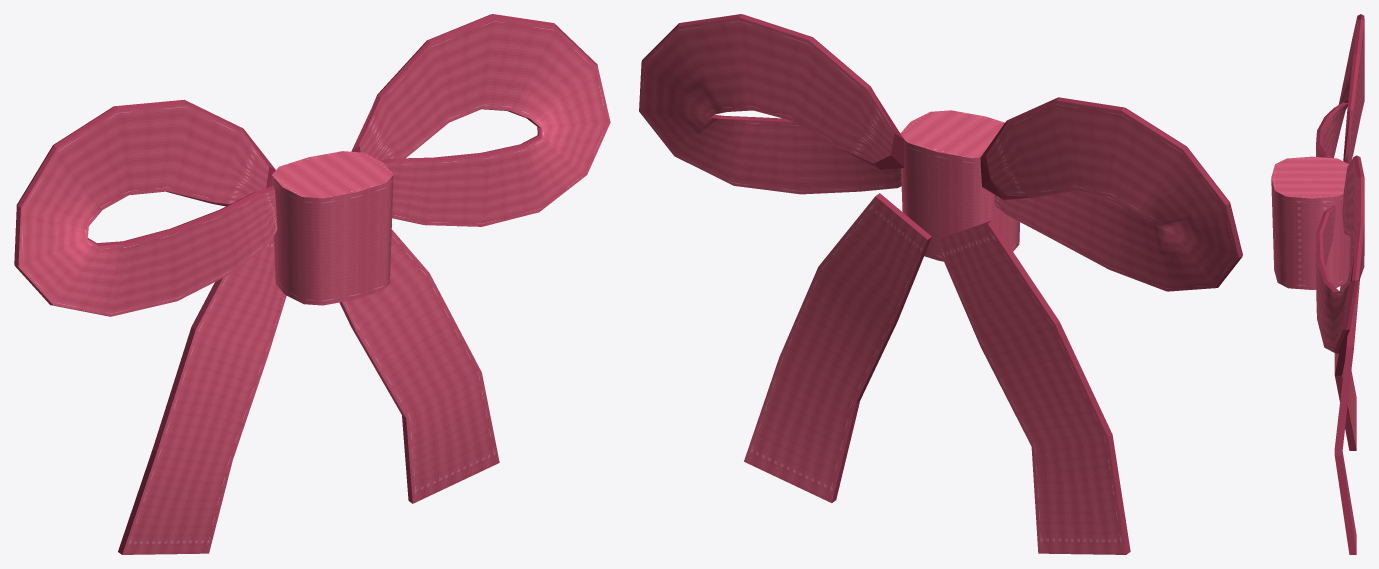
File: ribbon.obj
3 views of the same model, side by side, from view 1: azimuth 30°, elevation 25°; view 2: azimuth 150°, elevation 25°; view 3: azimuth 270°, elevation 25° (orthographic). The views are drawn at different scales.
Parts seen in each view (by area): view 1: A_FoldedBowLoop-1.001_ribbon_ribbon, A_FoldedBowLoop1.001_ribbon_ribbon, B_Tail-1.001_ribbon_ribbon, B_Tail1.001_ribbon_ribbon, C_WrappedKnot.001_ribbon_ribbon, A_FoldedBowLoop-1.001_ribbon_cut_edges, A_FoldedBowLoop1.001_ribbon_cut_edges, B_Tail-1.001_ribbon_cut_edges, B_Tail1.001_ribbon_cut_edges; view 2: A_FoldedBowLoop1.001_ribbon_ribbon, A_FoldedBowLoop-1.001_ribbon_ribbon, B_Tail-1.001_ribbon_ribbon, B_Tail1.001_ribbon_ribbon, C_WrappedKnot.001_ribbon_ribbon, A_FoldedBowLoop1.001_ribbon_cut_edges, A_FoldedBowLoop-1.001_ribbon_cut_edges, B_Tail-1.001_ribbon_cut_edges, B_Tail1.001_ribbon_cut_edges; view 3: C_WrappedKnot.001_ribbon_ribbon, A_FoldedBowLoop1.001_ribbon_ribbon, A_FoldedBowLoop1.001_ribbon_cut_edges, A_FoldedBowLoop-1.001_ribbon_ribbon, B_Tail1.001_ribbon_cut_edges, A_FoldedBowLoop-1.001_ribbon_cut_edges, B_Tail-1.001_ribbon_ribbon, B_Tail-1.001_ribbon_cut_edges, B_Tail1.001_ribbon_ribbon.
Part boxes in pixels (x1,y1,x2,y2): A_FoldedBowLoop-1.001_ribbon_ribbon: [18, 103, 277, 316]; A_FoldedBowLoop1.001_ribbon_ribbon: [359, 17, 610, 226]; B_Tail-1.001_ribbon_ribbon: [122, 237, 286, 554]; B_Tail1.001_ribbon_ribbon: [342, 229, 499, 503]; C_WrappedKnot.001_ribbon_ribbon: [272, 151, 393, 305]; A_FoldedBowLoop-1.001_ribbon_cut_edges: [14, 99, 275, 316]; A_FoldedBowLoop1.001_ribbon_cut_edges: [351, 14, 597, 226]; B_Tail-1.001_ribbon_cut_edges: [118, 278, 222, 554]; B_Tail1.001_ribbon_cut_edges: [339, 302, 412, 503]; A_FoldedBowLoop1.001_ribbon_ribbon: [639, 17, 901, 194]; A_FoldedBowLoop-1.001_ribbon_ribbon: [986, 101, 1238, 291]; B_Tail-1.001_ribbon_ribbon: [935, 223, 1126, 554]; B_Tail1.001_ribbon_ribbon: [744, 196, 927, 502]; C_WrappedKnot.001_ribbon_ribbon: [900, 110, 1020, 261]; A_FoldedBowLoop1.001_ribbon_cut_edges: [641, 14, 904, 194]; A_FoldedBowLoop-1.001_ribbon_cut_edges: [980, 97, 1242, 291]; B_Tail-1.001_ribbon_cut_edges: [936, 220, 1130, 554]; B_Tail1.001_ribbon_cut_edges: [832, 193, 931, 502]; C_WrappedKnot.001_ribbon_ribbon: [1271, 156, 1351, 289]; A_FoldedBowLoop1.001_ribbon_ribbon: [1315, 157, 1364, 352]; A_FoldedBowLoop1.001_ribbon_cut_edges: [1316, 155, 1364, 353]; A_FoldedBowLoop-1.001_ribbon_ribbon: [1316, 17, 1364, 163]; B_Tail1.001_ribbon_cut_edges: [1335, 280, 1359, 554]; A_FoldedBowLoop-1.001_ribbon_cut_edges: [1316, 14, 1364, 162]; B_Tail-1.001_ribbon_ribbon: [1334, 237, 1356, 449]; B_Tail-1.001_ribbon_cut_edges: [1335, 242, 1356, 450]; B_Tail1.001_ribbon_ribbon: [1334, 280, 1359, 552].
Size of the model in its own units: 2.01 by 1.49 by 0.32.
